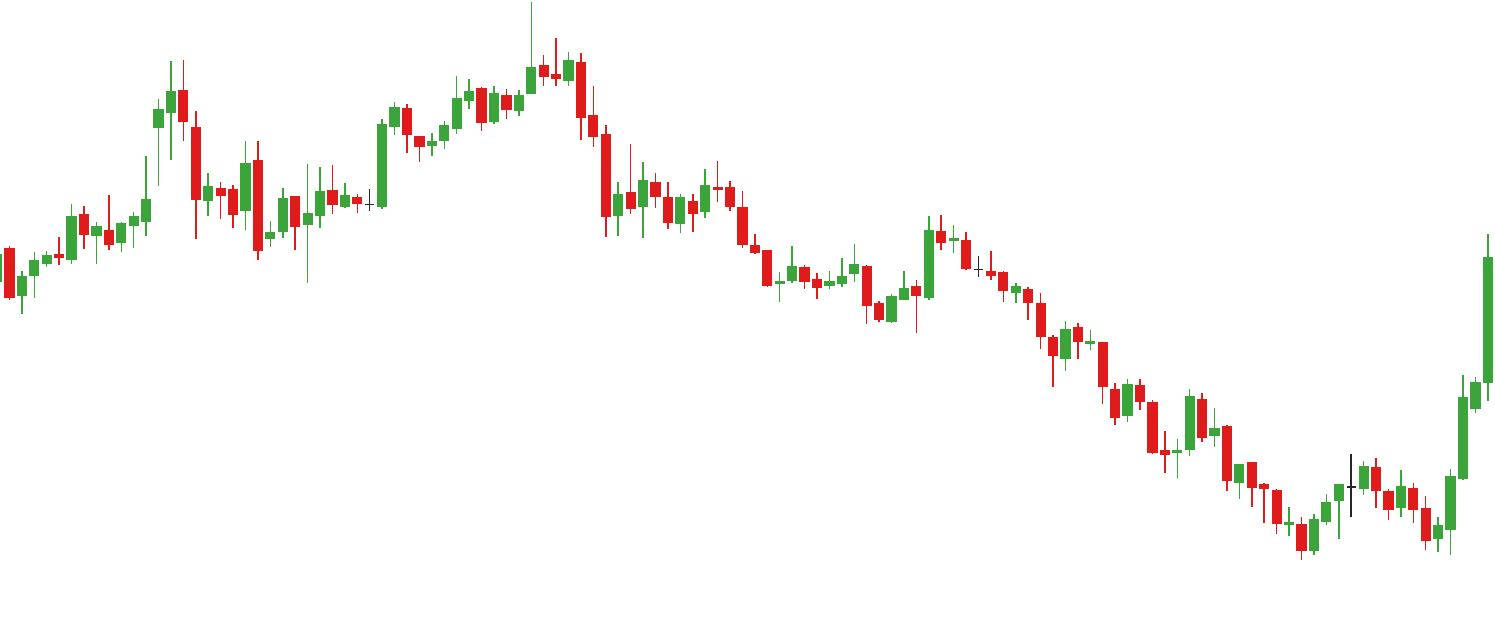buy: (1332, 497, 1444, 561)
sell: (847, 217, 974, 295)
